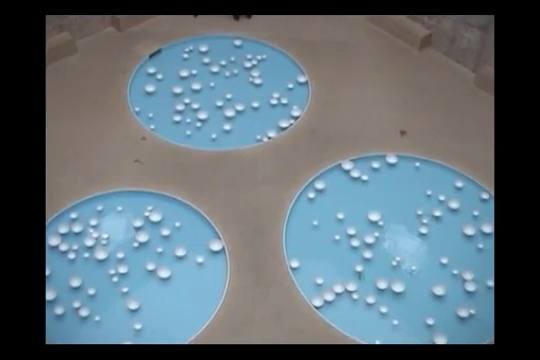bowl: (210, 240, 225, 252), (68, 275, 83, 287), (94, 247, 107, 260), (463, 224, 477, 236), (367, 211, 383, 221), (462, 268, 475, 280), (148, 211, 162, 222), (432, 284, 446, 295), (133, 231, 148, 241), (433, 334, 448, 344), (175, 244, 187, 256), (392, 281, 405, 292), (464, 283, 479, 292), (157, 268, 169, 279), (377, 278, 389, 289), (47, 286, 56, 300), (132, 216, 143, 227), (127, 300, 138, 311), (458, 308, 469, 319), (57, 223, 69, 233), (71, 222, 83, 232), (48, 235, 60, 245), (482, 223, 494, 233), (323, 292, 335, 302), (311, 297, 323, 307), (296, 74, 309, 83), (160, 226, 171, 236), (419, 225, 430, 235), (334, 284, 345, 294), (144, 83, 156, 92), (190, 81, 202, 90), (278, 119, 290, 128), (386, 155, 398, 164), (449, 199, 459, 209), (146, 262, 157, 271), (350, 169, 361, 178), (342, 160, 353, 169), (365, 234, 376, 243), (289, 259, 299, 268), (172, 86, 183, 94), (197, 111, 208, 119), (199, 44, 210, 52), (346, 283, 358, 290), (133, 321, 142, 330), (354, 263, 363, 272), (426, 316, 435, 325), (179, 68, 189, 76), (84, 237, 94, 245), (54, 306, 64, 314), (371, 160, 381, 168), (314, 181, 324, 189), (366, 294, 374, 304), (290, 110, 302, 116), (60, 243, 69, 251), (80, 308, 89, 316), (225, 109, 235, 116), (232, 38, 242, 45), (88, 218, 98, 225), (480, 192, 490, 199), (350, 239, 360, 246), (250, 69, 261, 75), (211, 65, 219, 73), (245, 60, 253, 68), (380, 306, 388, 314), (175, 103, 184, 110), (147, 66, 156, 73), (251, 101, 260, 108), (270, 98, 279, 105), (119, 265, 128, 272), (96, 204, 104, 211), (197, 255, 204, 263), (88, 287, 96, 294), (337, 211, 345, 218), (425, 189, 433, 196), (455, 180, 463, 187), (472, 209, 480, 216), (347, 227, 355, 234), (363, 251, 371, 258), (487, 280, 495, 287), (352, 293, 360, 300), (133, 106, 142, 112), (172, 115, 181, 121), (223, 124, 232, 130), (267, 130, 276, 136), (245, 53, 254, 59), (272, 92, 281, 98), (280, 97, 289, 103), (433, 210, 442, 216), (315, 278, 324, 284), (235, 105, 245, 110), (203, 57, 210, 64), (255, 77, 262, 84), (117, 251, 124, 258), (470, 307, 477, 314), (216, 100, 224, 106), (156, 245, 162, 253), (70, 212, 78, 218), (68, 253, 76, 259), (72, 301, 80, 307), (307, 192, 315, 198), (191, 103, 200, 108), (101, 233, 110, 238), (100, 239, 109, 244), (290, 117, 296, 124), (288, 82, 295, 88), (92, 232, 99, 238), (122, 286, 129, 292), (334, 234, 341, 240), (417, 208, 423, 215), (71, 244, 79, 249), (422, 218, 430, 223), (392, 320, 400, 325), (157, 73, 163, 79), (196, 121, 202, 127), (257, 54, 263, 60), (249, 77, 255, 83), (362, 174, 368, 180), (440, 194, 446, 200), (441, 258, 447, 264), (292, 104, 299, 109), (112, 277, 119, 282), (95, 315, 100, 322), (453, 269, 460, 274), (210, 81, 215, 87), (212, 133, 218, 138), (225, 71, 231, 76), (233, 69, 239, 74), (230, 56, 236, 61), (220, 60, 226, 65), (192, 69, 198, 74), (226, 93, 232, 98), (133, 241, 139, 246), (84, 252, 90, 257), (109, 268, 115, 273), (379, 220, 385, 225), (412, 264, 417, 270), (478, 244, 484, 249), (183, 54, 190, 58), (313, 220, 320, 224), (186, 118, 191, 123), (374, 231, 379, 236), (256, 134, 262, 138), (149, 112, 154, 116), (150, 125, 155, 129), (186, 130, 191, 134), (185, 47, 190, 51), (117, 206, 122, 210), (175, 221, 180, 225), (415, 162, 420, 166), (397, 256, 401, 261), (185, 99, 191, 102), (189, 46, 195, 49), (254, 61, 260, 64), (263, 54, 267, 58), (144, 212, 148, 216), (393, 261, 397, 265), (263, 138, 268, 141), (148, 206, 153, 209), (89, 229, 94, 232)
